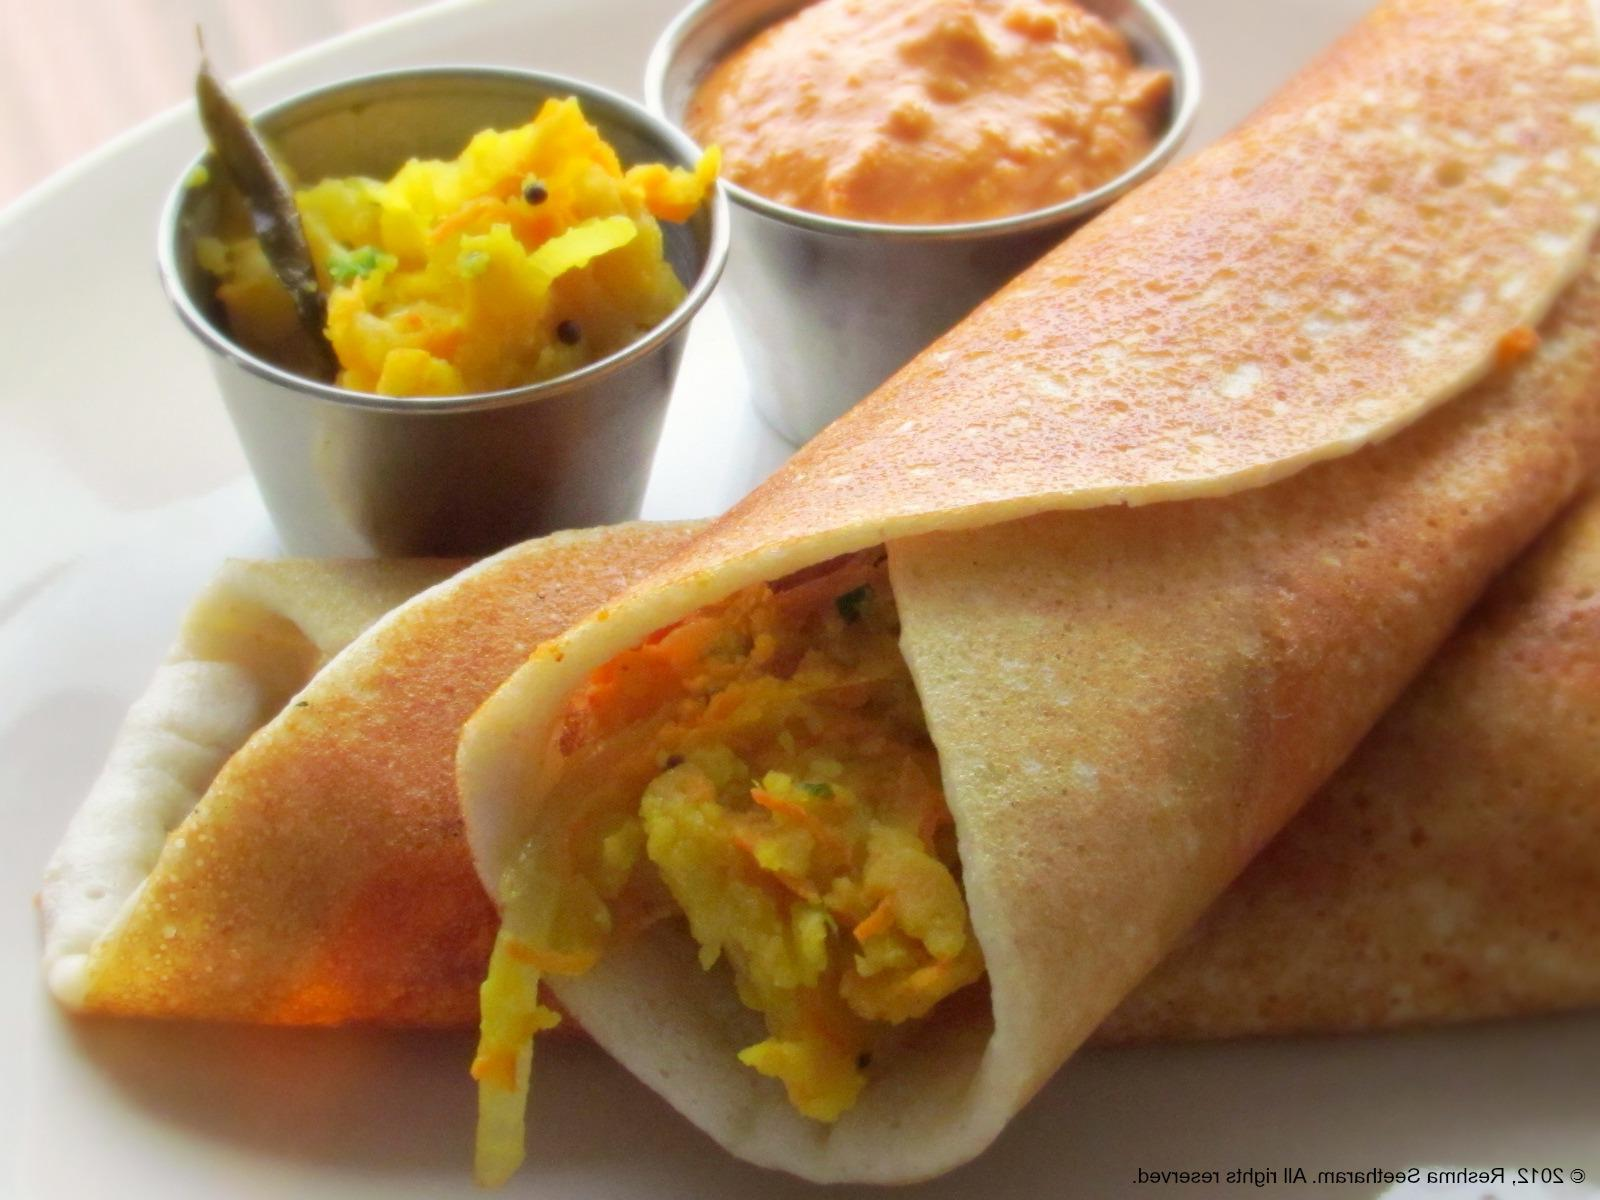dosa: (454, 6, 1600, 1190), (43, 555, 1600, 1045)
